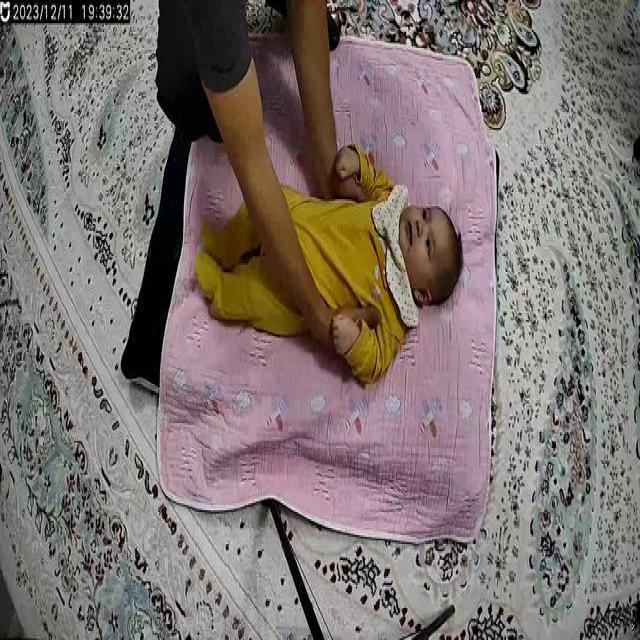baby: (192, 142, 466, 379)
